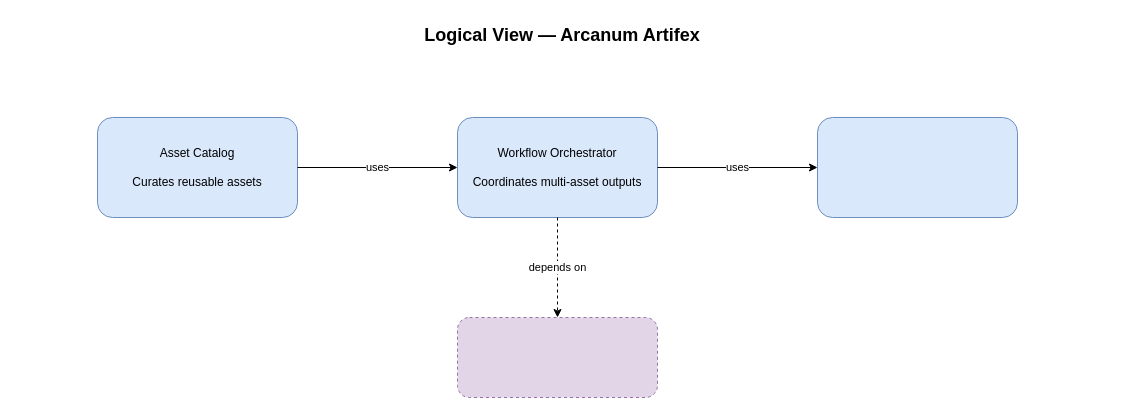
The diagram is 1124 pixels wide and 415 high, and some of its shapes have lost their labels. Here are the shapes that lost their labels. From the top down, the centre of each, then its label:
At point 917,167: "Quality and Governance Engine Applies policy and validation".
At point 557,357: "GitHub Repository".
